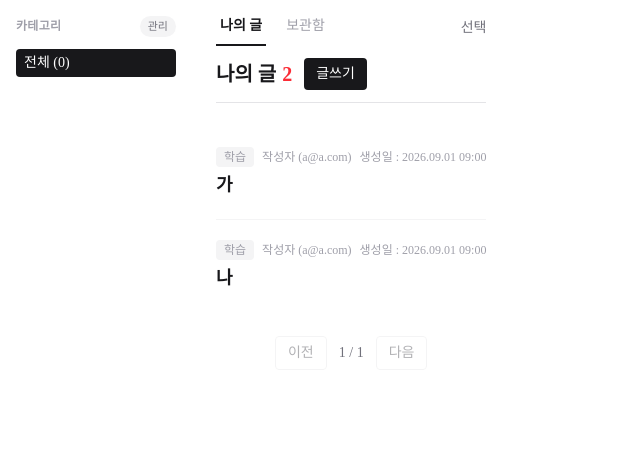
Test: MyPostsPage — 보관함 › [이 페이지 전체 선택]은 보이는 글을 모두 고른다
This screenshot has width=621, height=454.
Check: the link "가" is shown, box [216,175,233,195]
What coordinates should you click on to do the following:
click the button "선택"
I would click on:
 (474, 32)
Its box is [461,18,486,46].
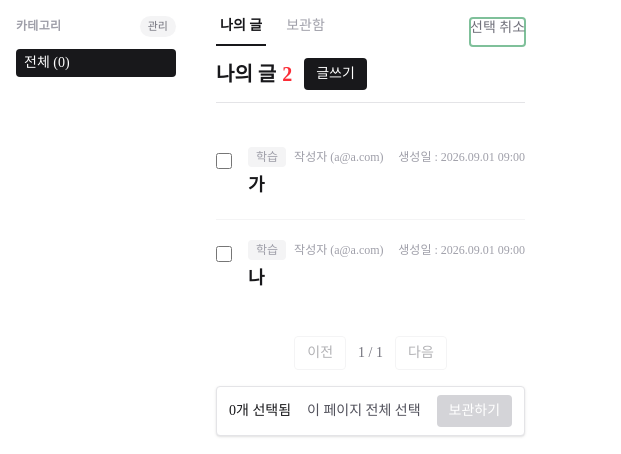
What coordinates should you click on to do the following:
click the button "이 페이지 전체 선택"
I would click on:
 (364, 411)
Its box is [299,397,428,425].
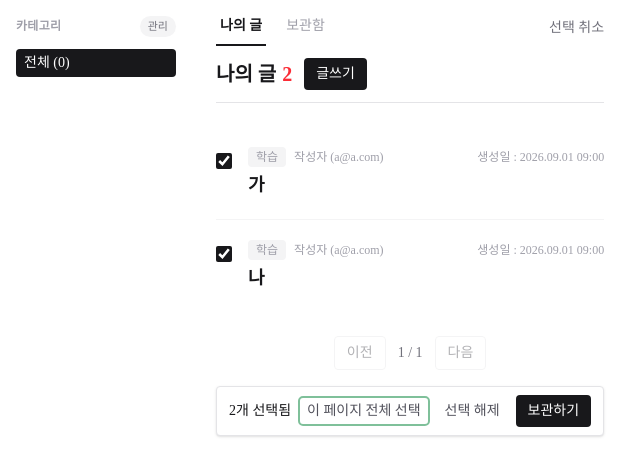
Check: the text "2개 선택됨" is shown, box [229,401,291,421]
Check: the checkbox named "가 선택" is checked, box [216,153,232,169]
Check: the checkbox named "나 선택" is checked, box [216,246,232,262]
